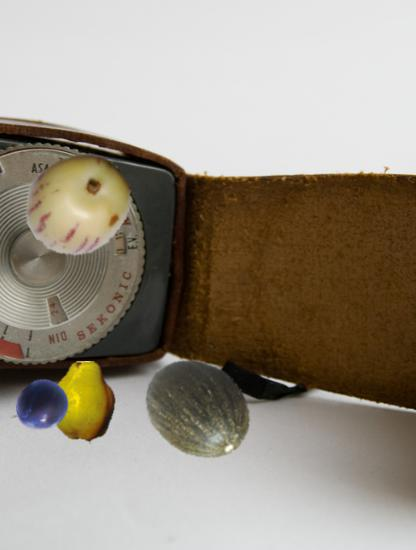Melon: (143, 355, 253, 465)
Pepino: (24, 150, 132, 258)
Plum: (14, 378, 70, 434)
Quince: (41, 361, 124, 444)
